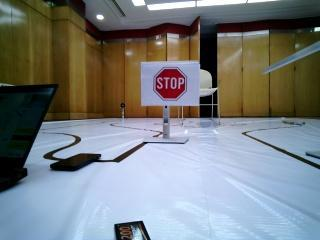stop: (143, 65, 202, 107)
